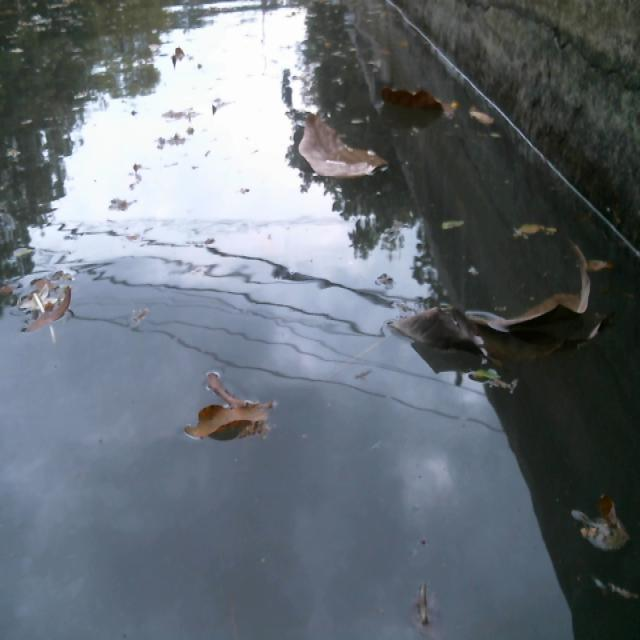Big-leaf: (465, 251, 598, 335), (295, 106, 388, 184), (388, 297, 491, 363), (380, 83, 459, 127)
Small-leaf: (184, 401, 274, 445), (581, 490, 628, 560), (592, 570, 640, 609), (468, 363, 520, 396), (206, 359, 239, 406), (409, 581, 441, 628), (29, 299, 72, 333), (18, 271, 64, 301), (514, 216, 555, 244), (468, 101, 498, 130), (436, 212, 468, 238), (124, 304, 152, 333), (169, 42, 193, 72)
